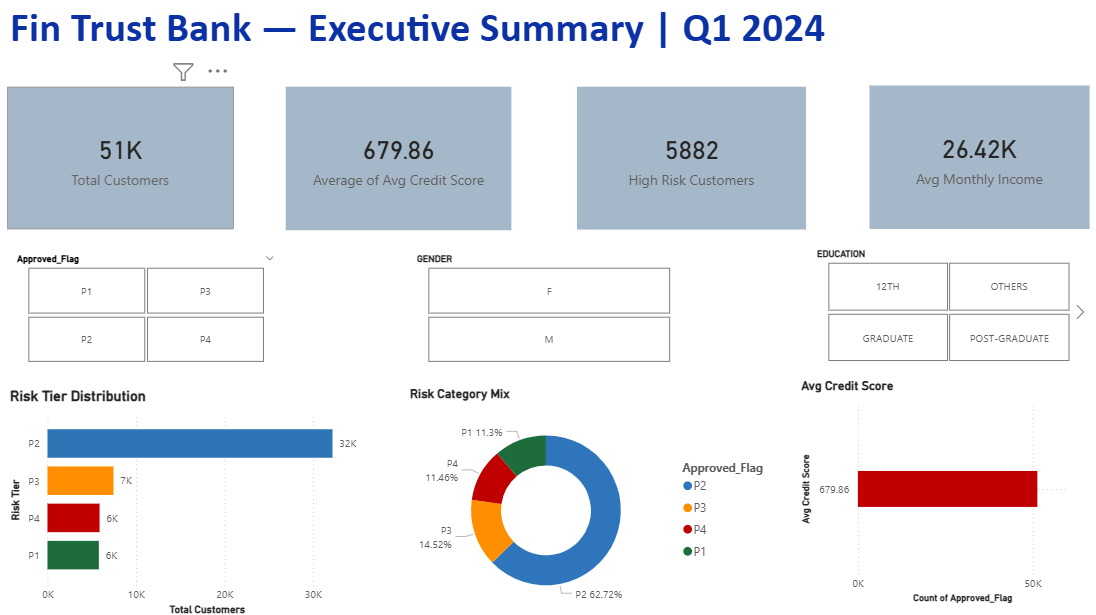

What the dashboard file says about the page in this screenshot:
{"tool":"powerbi","page":{"name":" Executive Summary","canvas":[1280,720],"ordinal":0},"visuals":[{"type":"cardVisual","fields":{"Data":["fintrust_db external_cibil_data.Total Customers"]},"box":[10.9,85.7,279.9,200.3],"z":0},{"type":"cardVisual","fields":{"Data":["fintrust_db external_cibil_data.High Risk Customers"]},"box":[649.3,85.6,280,200.5],"z":1000},{"type":"cardVisual","fields":{"Data":["fintrust_db external_cibil_data.Avg Monthly Income"]},"box":[972.4,85.7,276.3,200.3],"z":2000},{"type":"clusteredBarChart","title":" Risk Tier Distribution","fields":{"Category":["fintrust_db external_cibil_data.Approved_Flag"],"Y":["fintrust_db external_cibil_data.Total Customers"]},"box":[10.9,450,434.3,270.2],"z":3000},{"type":"clusteredBarChart","title":"Avg Credit Score","fields":{"Y":["CountNonNull(fintrust_db external_cibil_data.Approved_Flag)"],"Category":["fintrust_db external_cibil_data.Avg Credit Score"]},"box":[937.4,453.6,329.4,266.6],"z":4000},{"type":"donutChart","title":"Risk Category Mix","fields":{"Category":["fintrust_db external_cibil_data.Approved_Flag"],"Y":["fintrust_db external_cibil_data.Total Customers"]},"box":[474.1,450,435.5,270.2],"z":5000},{"type":"slicer","title":"Ris","fields":{"Values":["fintrust_db external_cibil_data.Approved_Flag"]},"box":[10.9,290.8,323.3,137.5],"z":6000},{"type":"slicer","fields":{"Values":["fintrust_db external_cibil_data.GENDER"]},"box":[474.1,290.8,330.6,137.5],"z":7000},{"type":"slicer","fields":{"Values":["fintrust_db external_cibil_data.EDUCATION"]},"box":[937.4,285.9,329.4,142.4],"z":8000},{"type":"textbox","box":[10.9,0,1201.6,73.6],"z":9000},{"type":"card","fields":{"Values":["Avg(fintrust_db external_cibil_data.Avg Credit Score)"]},"box":[334.2,102.5,261.8,166.5],"z":10000}]}

Visuals, with their boxes in screenshot pixels (x1, y1, x2, y2), scaled from the page's 1280x720 canvas onto the 1096x615 screenshot:
cardVisual - fintrust_db external_cibil_data.Total Customers: 9:73:249:244
cardVisual - fintrust_db external_cibil_data.High Risk Customers: 556:73:796:244
cardVisual - fintrust_db external_cibil_data.Avg Monthly Income: 833:73:1069:244
" Risk Tier Distribution" clusteredBarChart: 9:384:381:614
"Avg Credit Score" clusteredBarChart: 803:387:1085:614
"Risk Category Mix" donutChart: 406:384:779:614
"Ris" slicer: 9:248:286:366
slicer - fintrust_db external_cibil_data.GENDER: 406:248:689:366
slicer - fintrust_db external_cibil_data.EDUCATION: 803:244:1085:366
textbox: 9:0:1038:63
card - Avg(fintrust_db external_cibil_data.Avg Credit Score): 286:88:510:230
